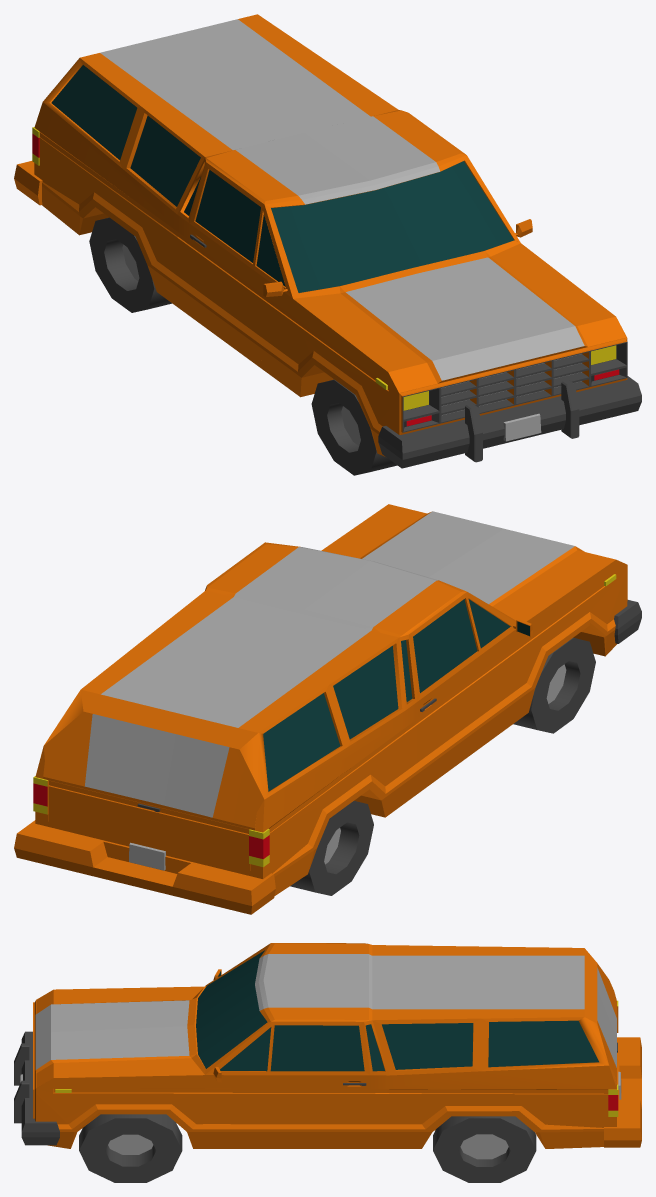
The model's file is Station wagon.fbx.
The picture shows the model from 3 angles, top to bottom: view 1: azimuth 30°, elevation 25°; view 2: azimuth 150°, elevation 25°; view 3: azimuth 270°, elevation 25°; orthographic projection. The views are drawn at different scales.
Parts seen in each view (by area): view 1: hood; view 2: hood; view 3: hood.
Boxes of the visible parts, <box> form: hood: <box>14,14,641,475</box>; hood: <box>14,504,641,914</box>; hood: <box>14,943,641,1182</box>.
Size of the model in its own units: 190 by 136 by 485.
